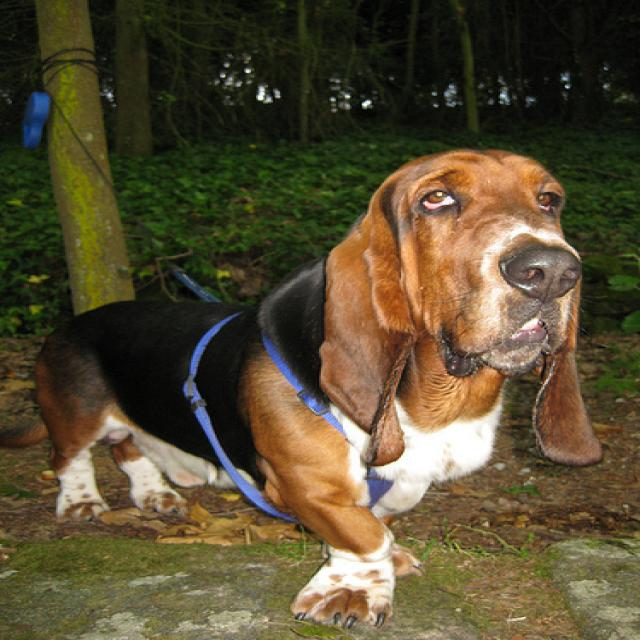dog-basset_hound: (2, 134, 613, 636)
